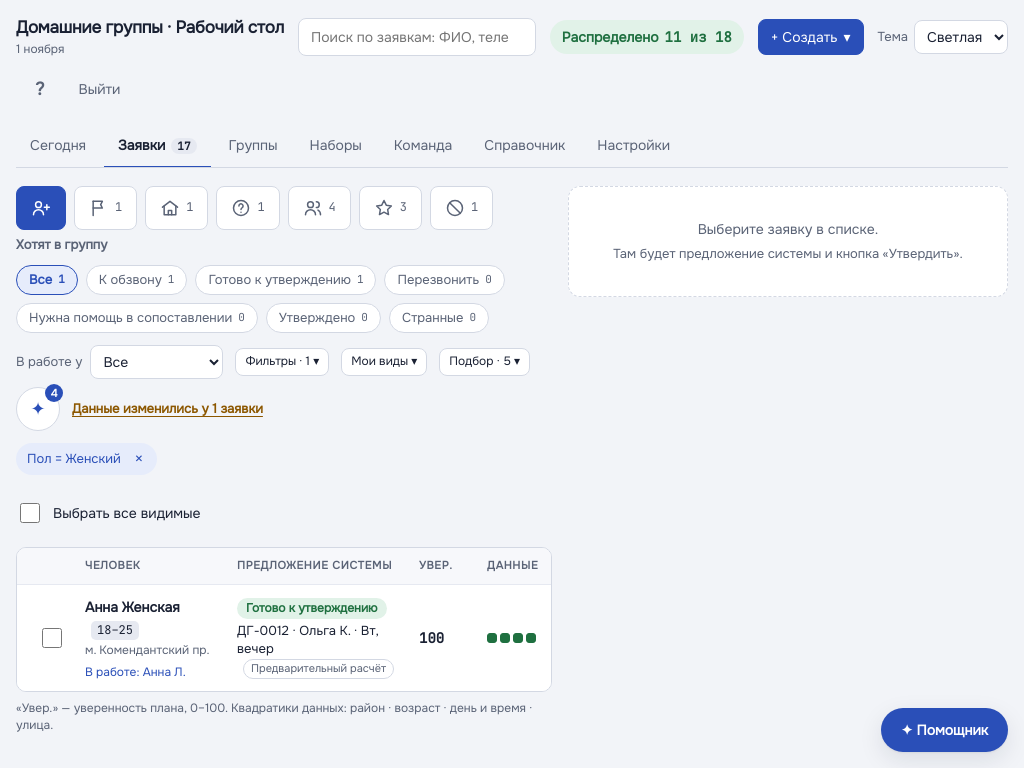
Test case: «Заявки»: фильтры на экране › условие из адреса сужает список, чип с крестиком его снимает
The width and height of the screenshot is (1024, 768).
Expected: the button "Анна Женская" is shown, [85, 595, 180, 619]
Expected: the text "Борис Мужской" is not shown
What coordinates should you click on to do the following:
click the button named "Убрать отбор: Пол"
I would click on:
 (139, 459)
Its box is [125, 445, 153, 473].
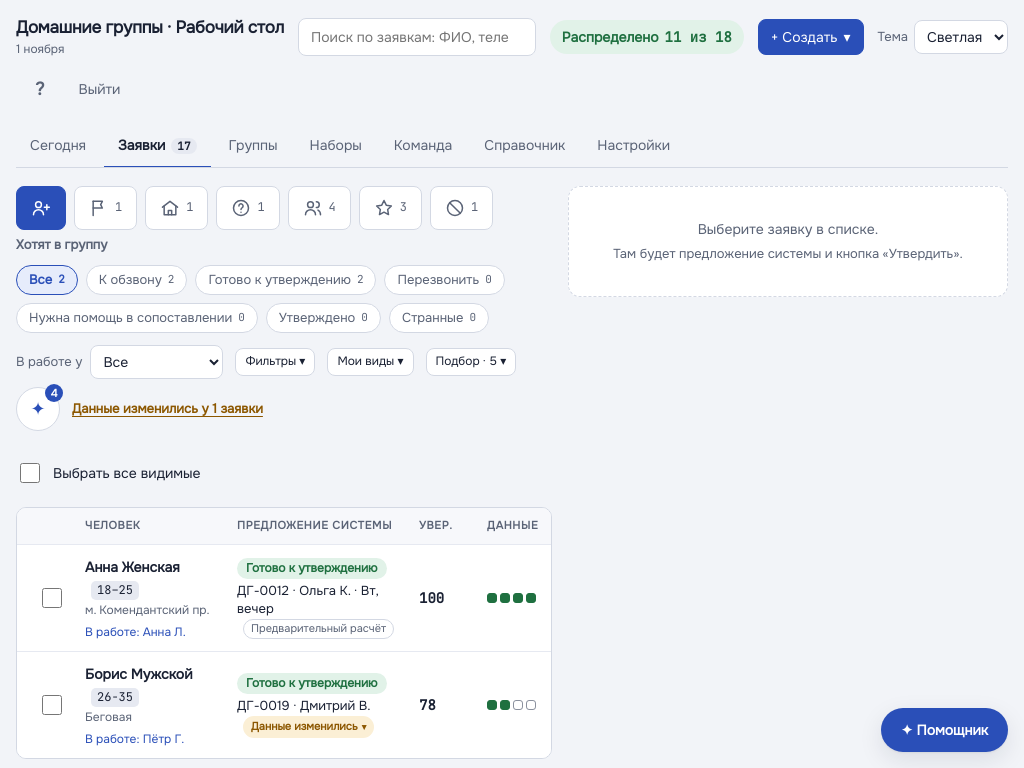
Now the button "Борис Мужской" is shown, box [85, 662, 192, 686]
